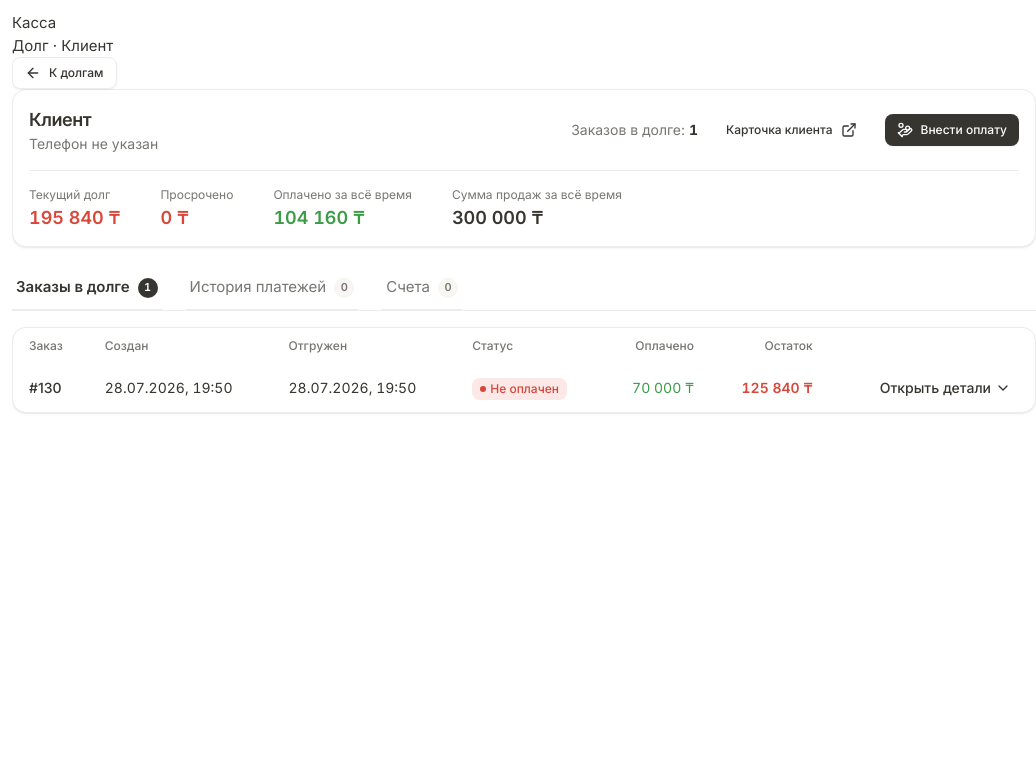
Test: shows write-offs net of refunds on the confirmation day
Step 1. Click the cell "#130" → (51,388), box [13,364,89,412]
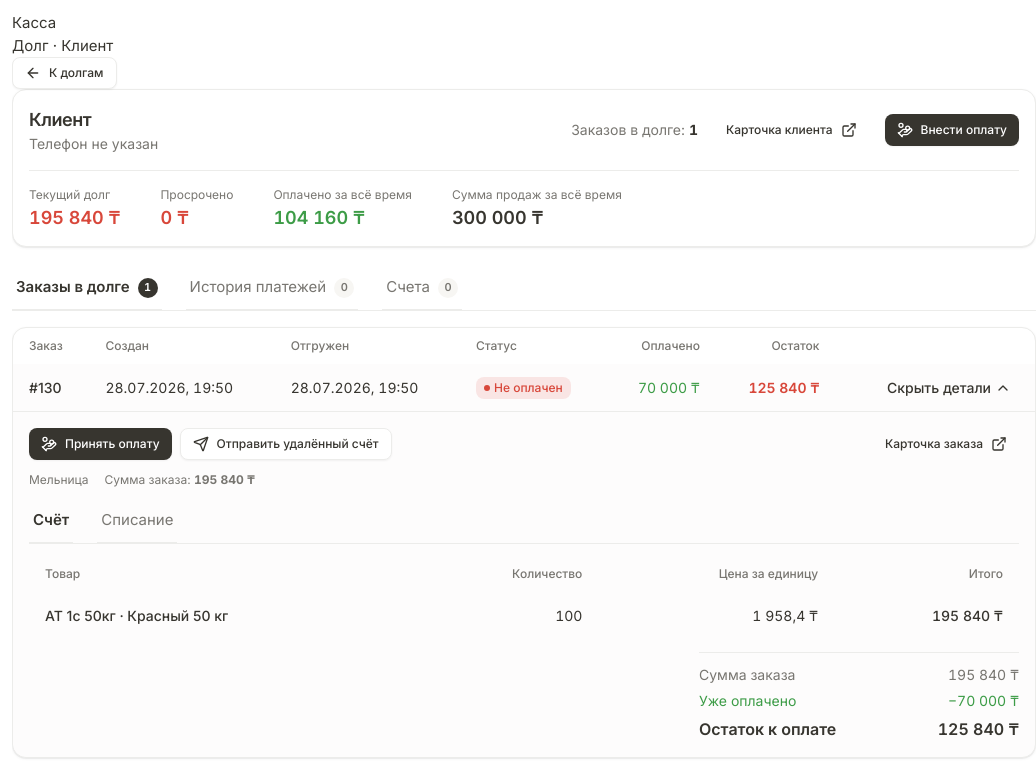
Step 2. Click the tab "Списание" → (137,522), box [97,500,178,544]
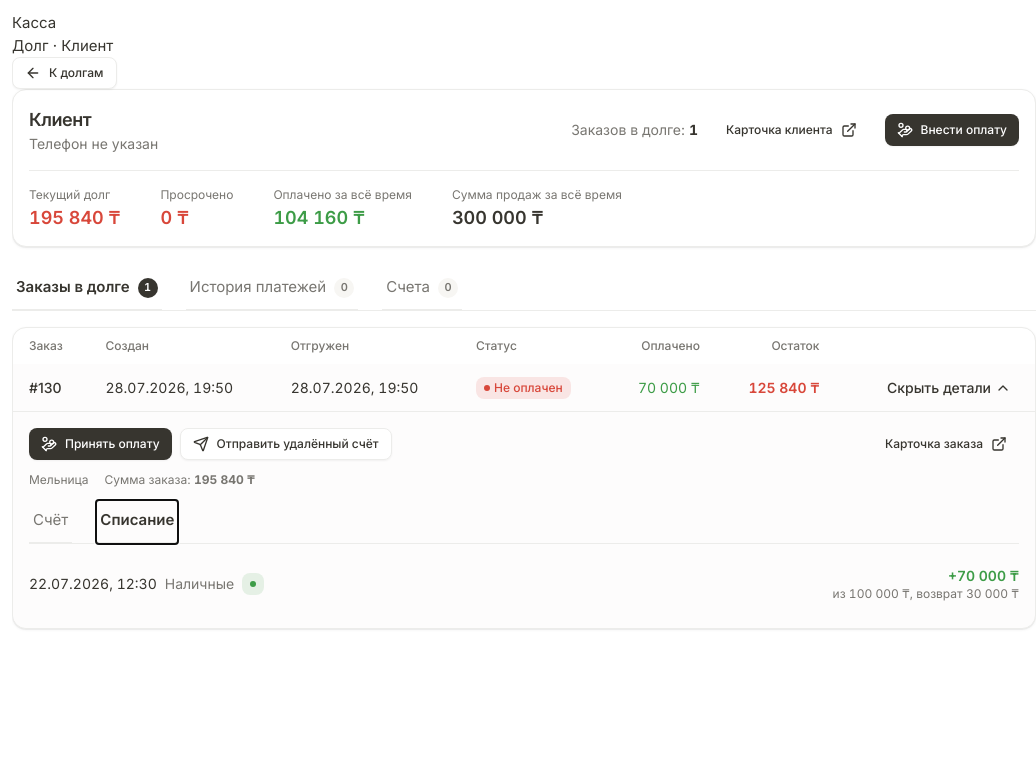
expect the text "+70 000 ₸" is shown: met, box [948,566,1019,584]
expect the text "из 100 000 ₸, возврат 30 000 ₸" is shown: met, box [833,586,1019,602]
